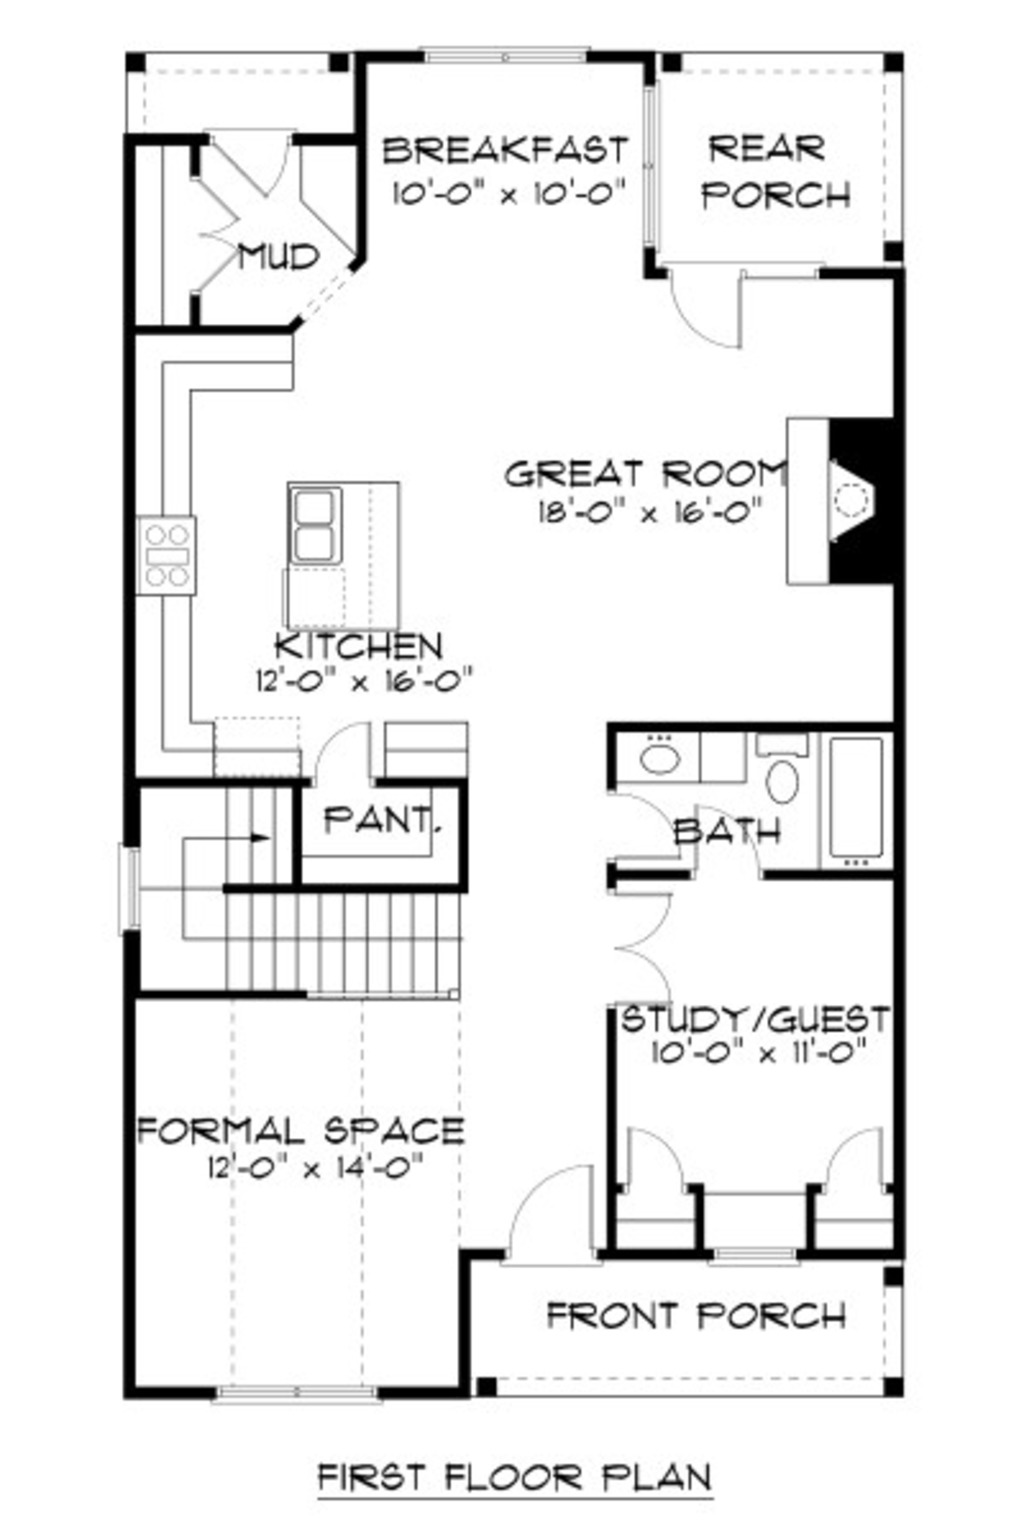door: (483, 1161, 606, 1279), (601, 875, 681, 1024), (187, 175, 278, 293), (206, 121, 304, 210), (688, 805, 778, 896), (669, 258, 757, 349), (601, 777, 671, 872), (619, 1126, 699, 1200), (315, 710, 385, 791), (801, 1126, 890, 1184)
kitchen_bar: (283, 458, 408, 649)
large_sink: (747, 726, 822, 817)
small_sink: (622, 728, 709, 782)
stairs: (136, 777, 474, 998)
tub: (813, 726, 897, 875)
window: (213, 1368, 383, 1405), (413, 38, 594, 63), (113, 838, 160, 935), (706, 1242, 799, 1270)
